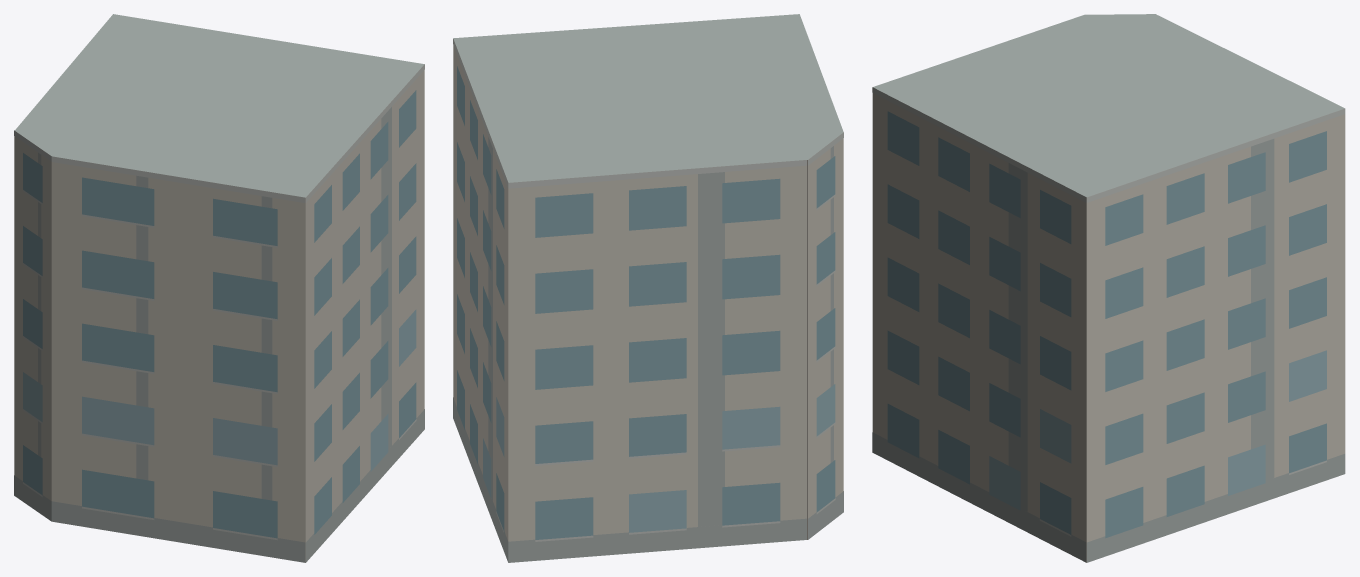
The model's file is survey-upis-32983594.glb.
3 renders of one model, left to right at view 1: azimuth 30°, elevation 25°; view 2: azimuth 150°, elevation 25°; view 3: azimuth 270°, elevation 25°, orthographic. The views are drawn at different scales.
Parts seen in each view (by area): view 1: survey-upis-32983594.tmp; view 2: survey-upis-32983594.tmp; view 3: survey-upis-32983594.tmp.
Part boxes in pixels (left/top/right/bottom): survey-upis-32983594.tmp: left=14, top=14, right=424, bottom=562; survey-upis-32983594.tmp: left=453, top=14, right=843, bottom=562; survey-upis-32983594.tmp: left=872, top=14, right=1345, bottom=562.
Size of the model in its own units: 17.07 by 15.85 by 18.59.
